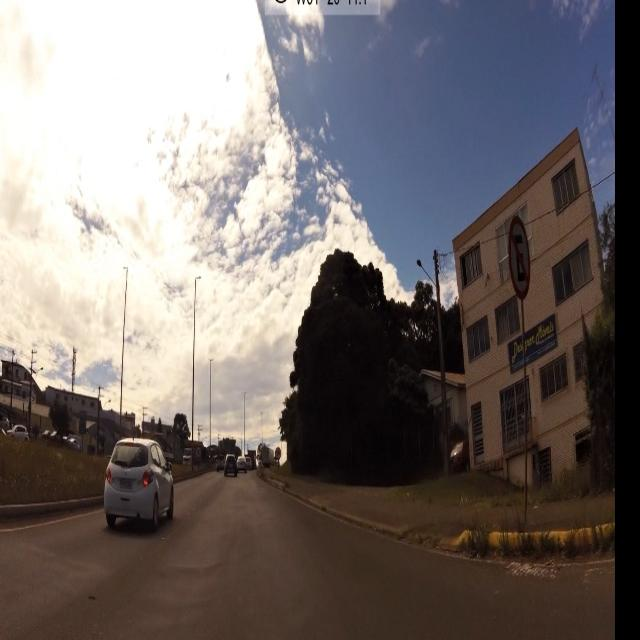R-6a: (506, 213, 533, 301)
